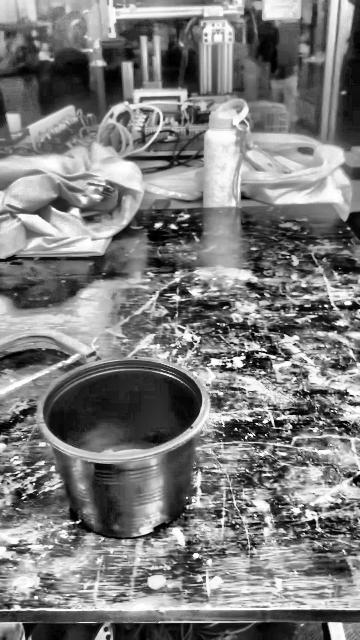pot: (41, 359, 205, 536)
